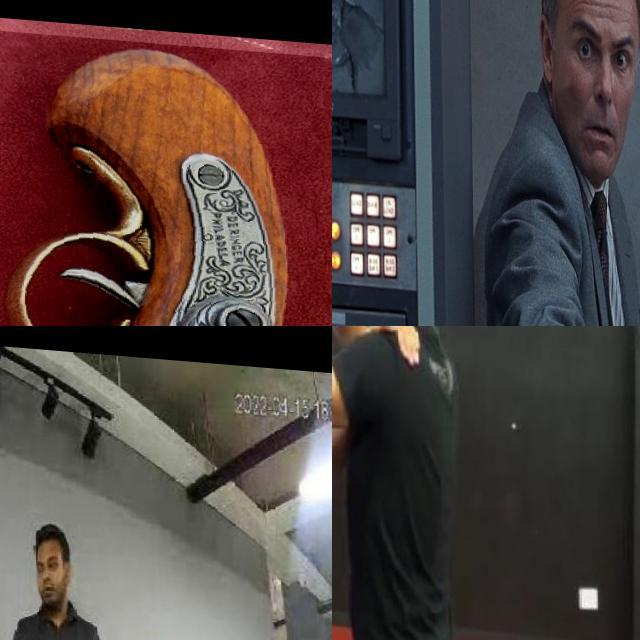-: (332, 326, 380, 368)
gun-knife-thesis - v11 Yolov5 augmented: (0, 21, 332, 326)
